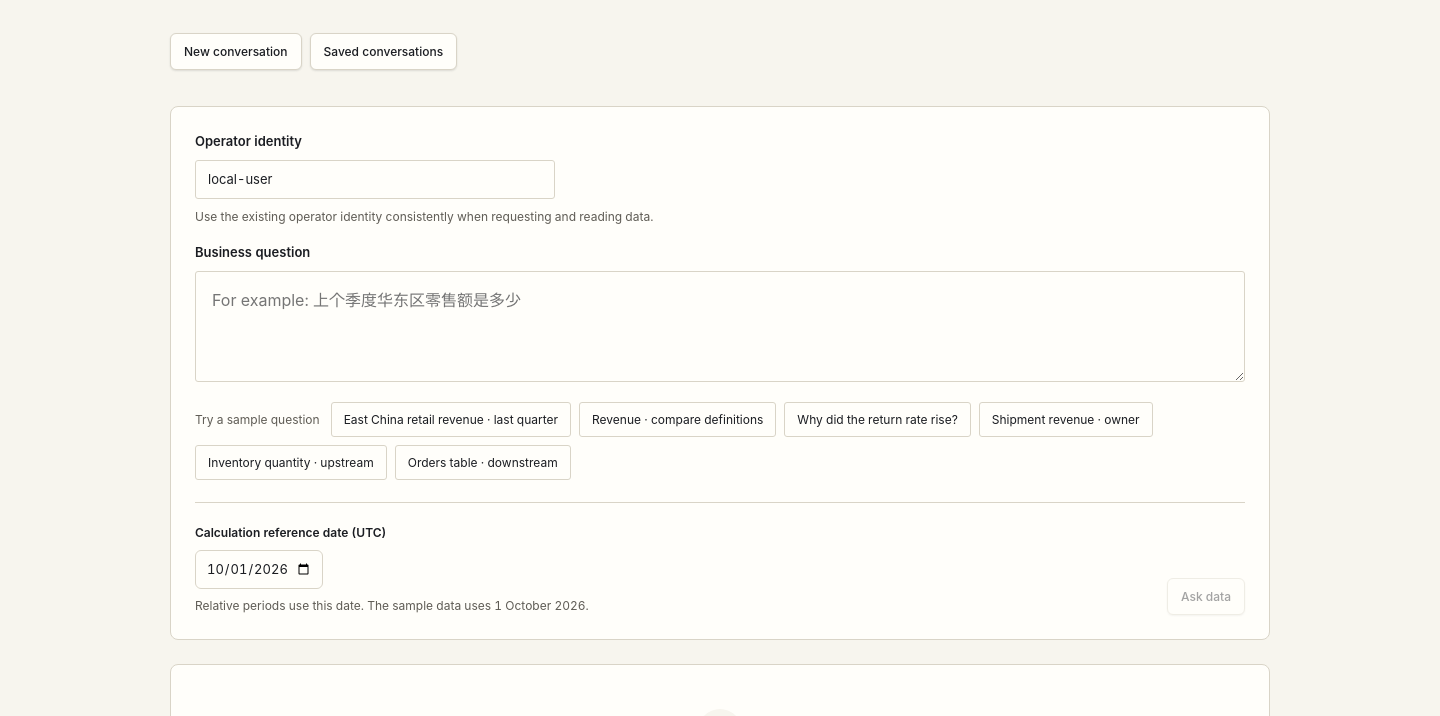
Test: pins a selected definition and repeats the original question: 上个季度营业额是多少
Type "上个季度营业额是多少" into the text box labelled "Business question".
click(720, 326); type("上个季度营业额是多少")  # box [195,271,1245,382]
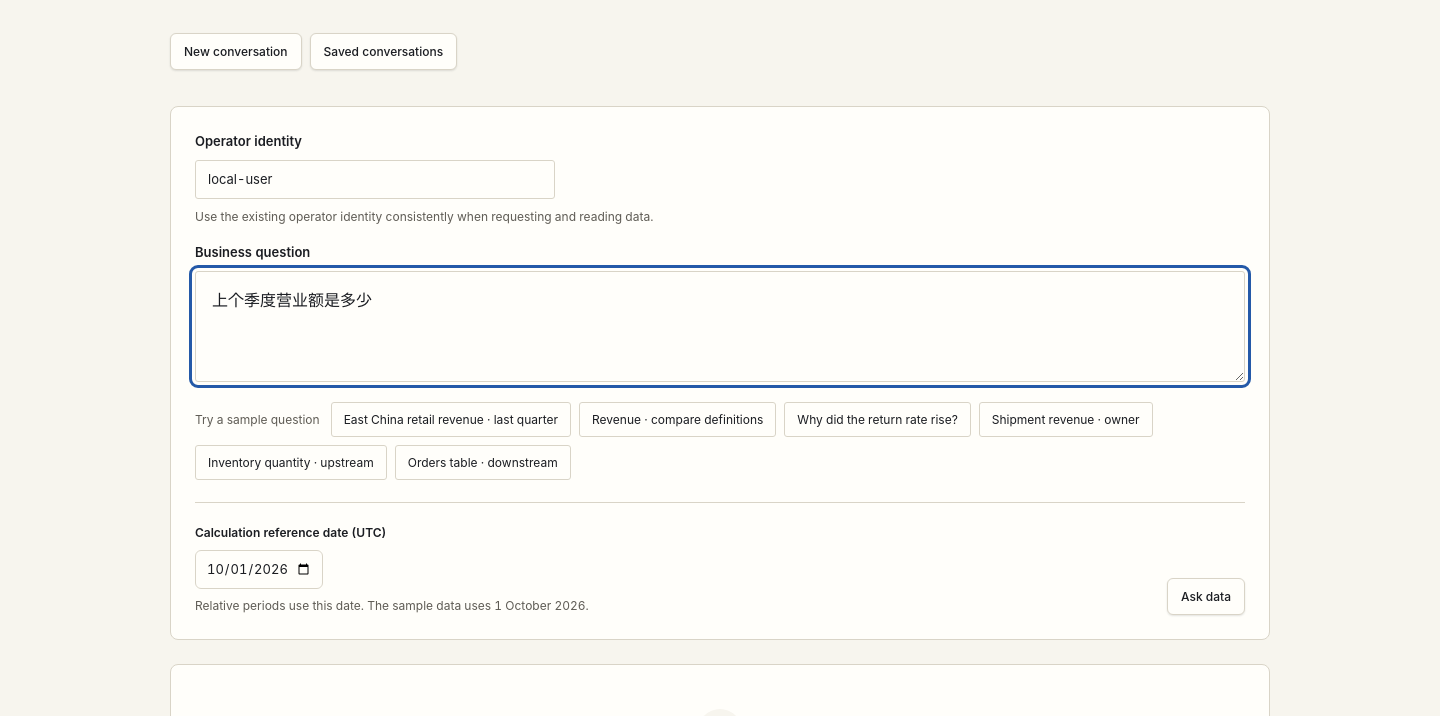
Click the button "Ask data".
click(1206, 596)  # box [1167,578,1245,615]
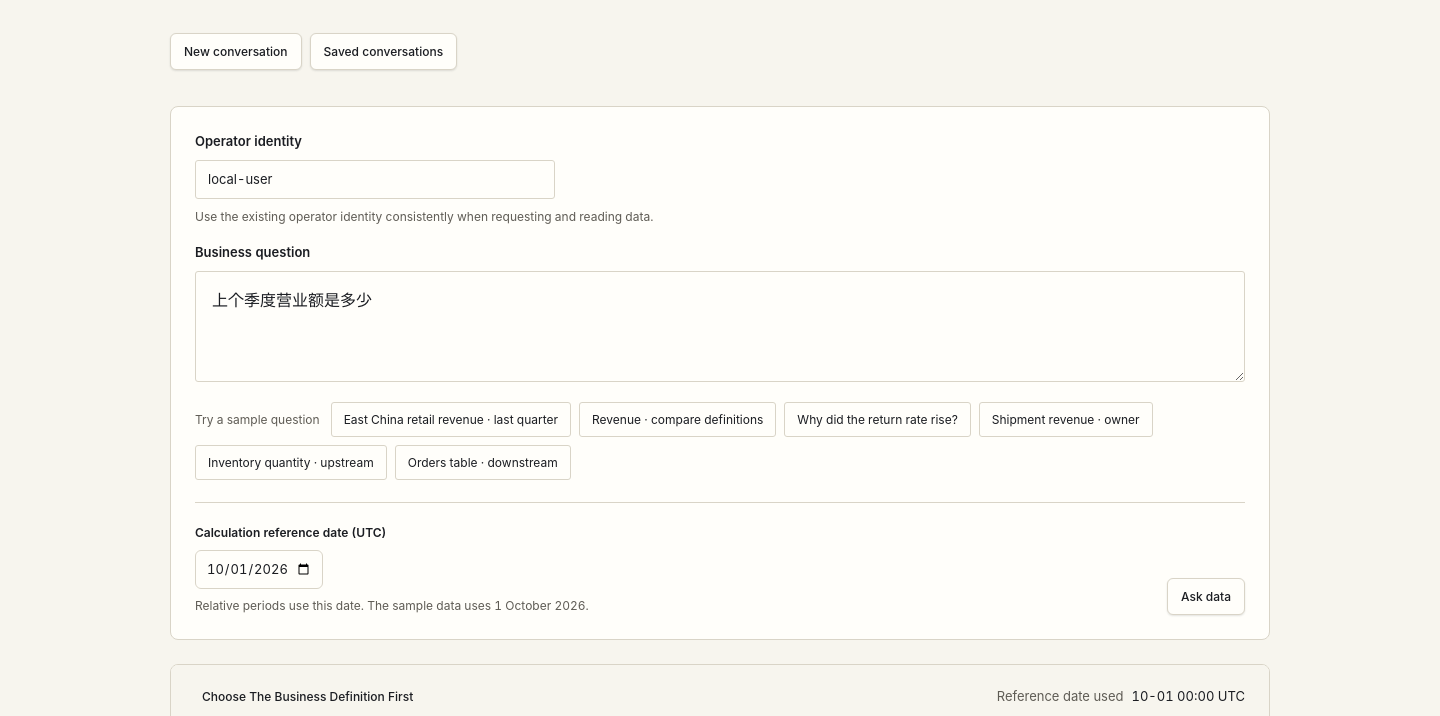
Replace the text in the text box labelled "Business question" with "An unrelated edited question" at [720, 326], box [195,271,1245,382]
(page scrolled)
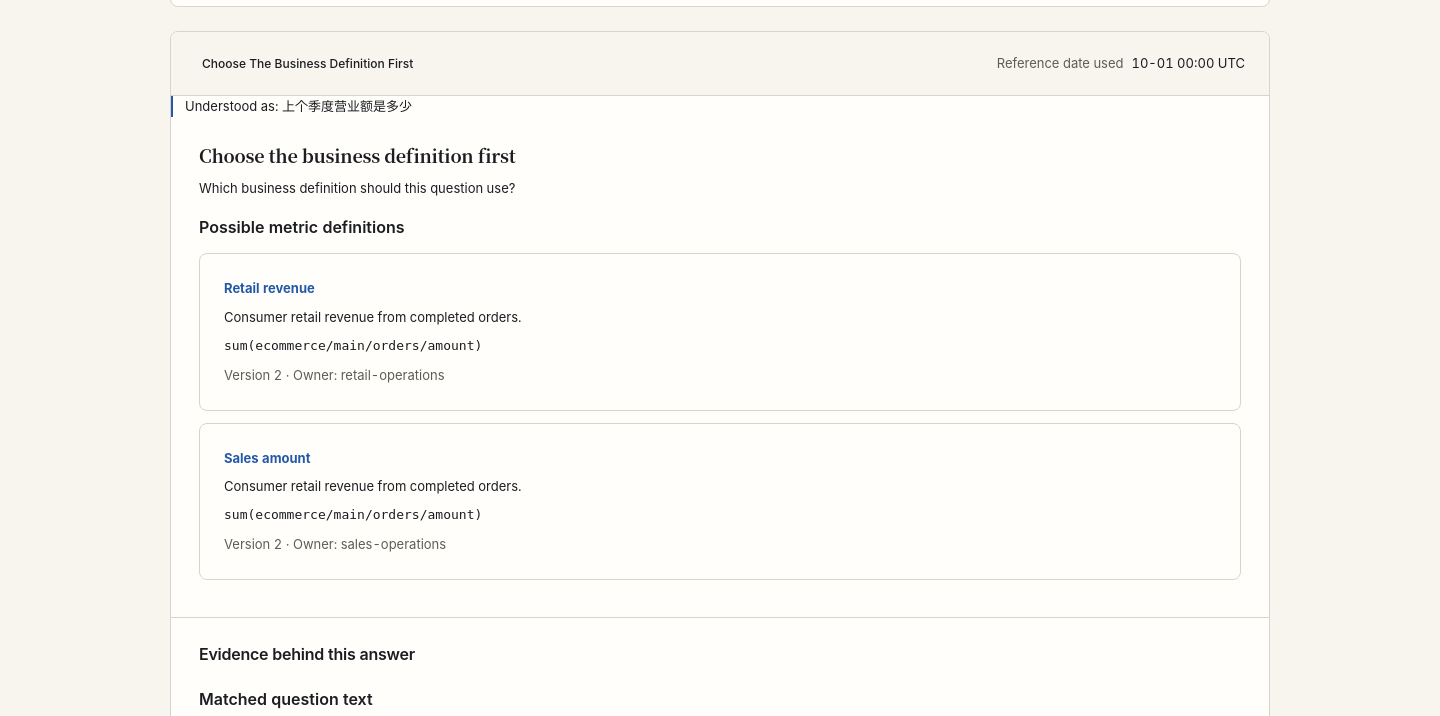
Click the button named "Version 2 · Owner:".
click(269, 288)  # box [216,270,1224,394]
(page scrolled)
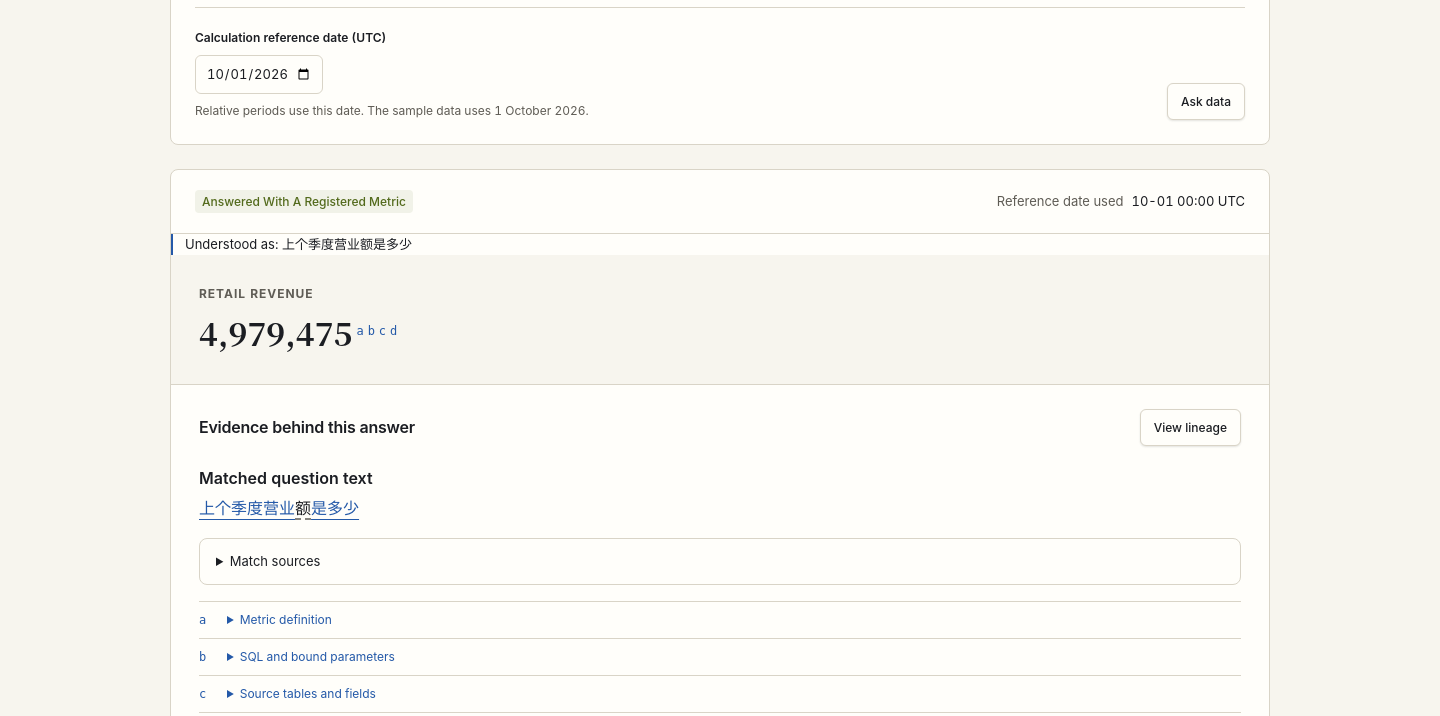
Now the text named "Calculated result" reads "4,979,475", box [199,309,352,355]
